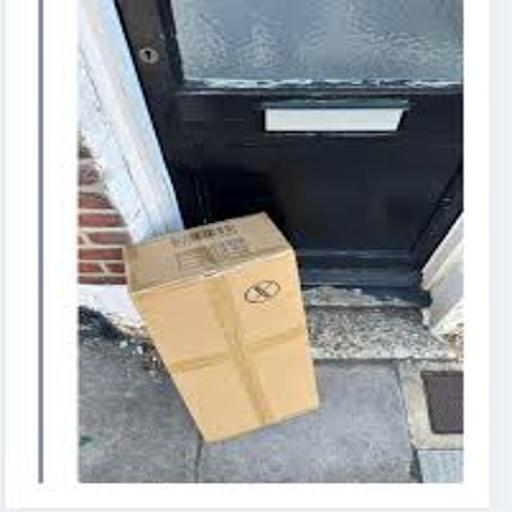Other: (120, 208, 326, 447)
